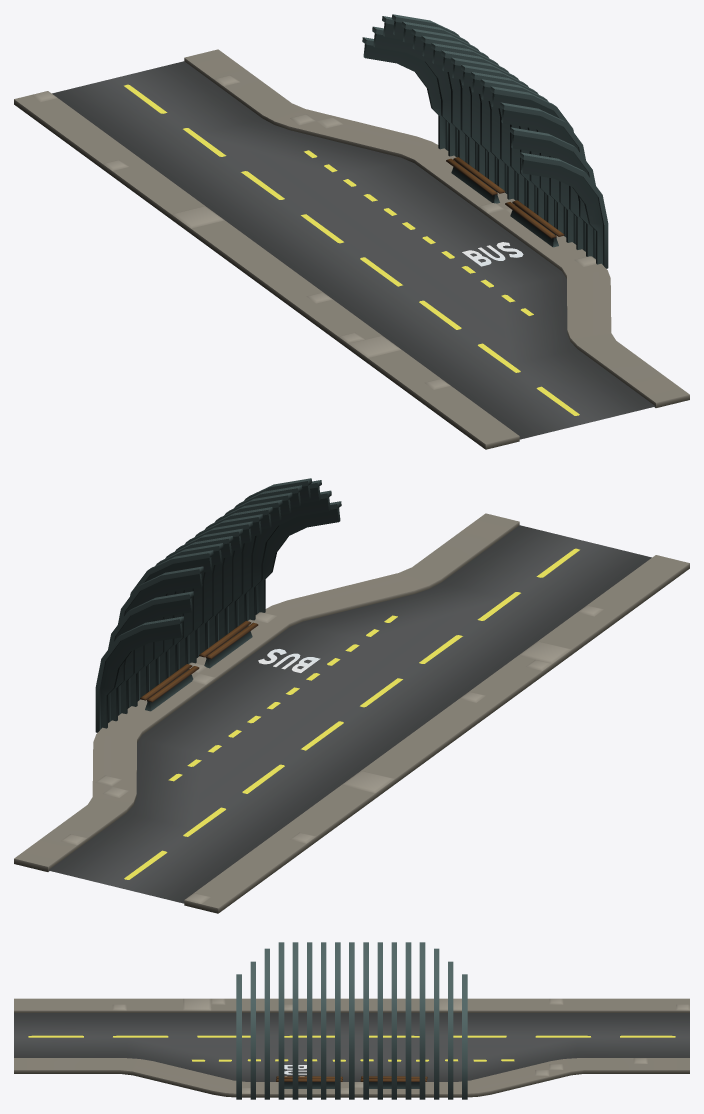
Rendered from Road_1S_Special.fbx.
The picture shows the model from 3 angles, top to bottom: view 1: azimuth 30°, elevation 25°; view 2: azimuth 150°, elevation 25°; view 3: azimuth 270°, elevation 25°; orthographic projection. The views are drawn at different scales.
Parts seen in each view (by area): view 1: Road_1S_Special; view 2: Road_1S_Special; view 3: Road_1S_Special.
Part boxes in pixels (<box>): Road_1S_Special: <box>14,14,689,449</box>; Road_1S_Special: <box>14,478,689,913</box>; Road_1S_Special: <box>14,942,689,1099</box>.
Bounding box in the file's own units: 1633 × 1001 × 4800.
